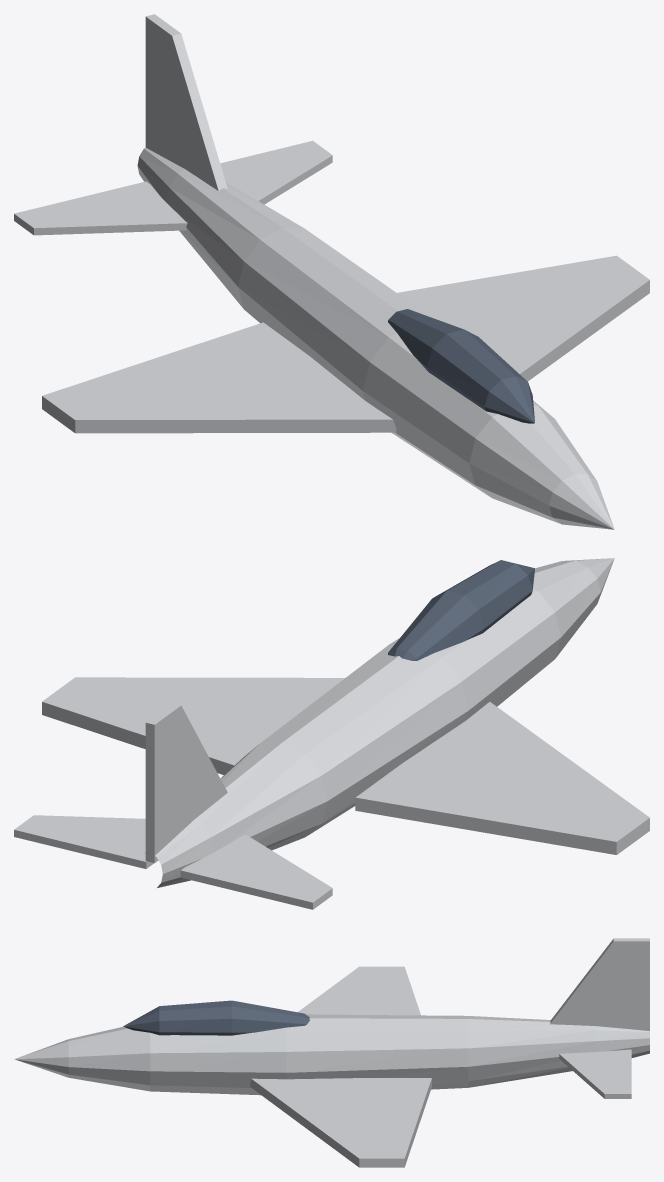
Rendered from fixed_wing.glb.
The picture shows the model from 3 angles, top to bottom: view 1: azimuth 30°, elevation 25°; view 2: azimuth 150°, elevation 25°; view 3: azimuth 270°, elevation 25°; orthographic projection. The views are drawn at different scales.
Parts seen in each view (by area): view 1: airframe; view 2: airframe; view 3: airframe.
Boxes of the visible parts, bbox=[...] form: airframe: bbox=[14, 14, 649, 529]; airframe: bbox=[14, 558, 649, 909]; airframe: bbox=[14, 938, 649, 1167].
Bounding box in the file's own units: 10 × 3.7 × 14.
